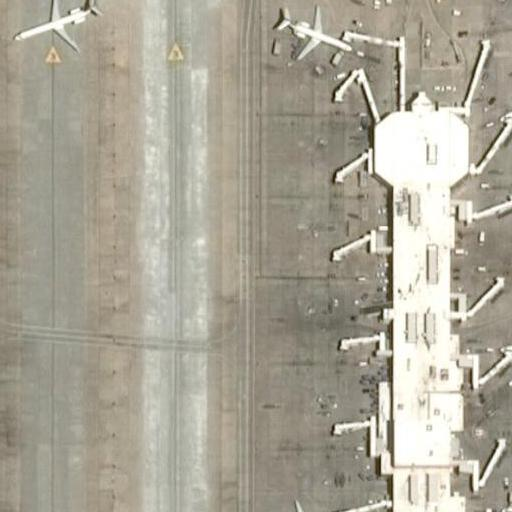Aircraft: (268, 0, 353, 63), (9, 0, 101, 52), (489, 67, 512, 134), (259, 493, 340, 512), (491, 314, 512, 382), (499, 477, 512, 512)
